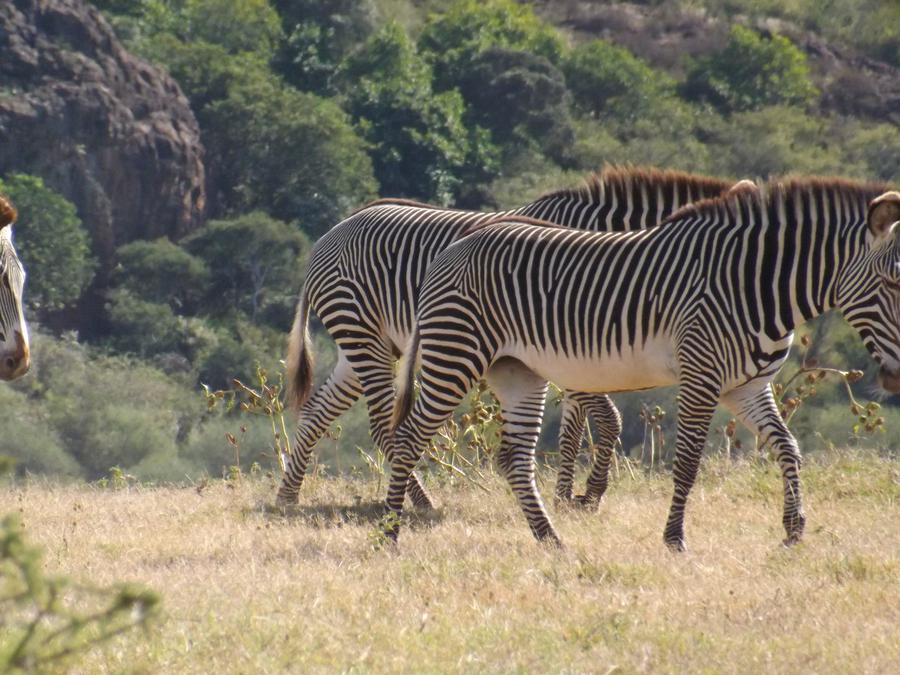zebra_grevys: (417, 225, 756, 375)
